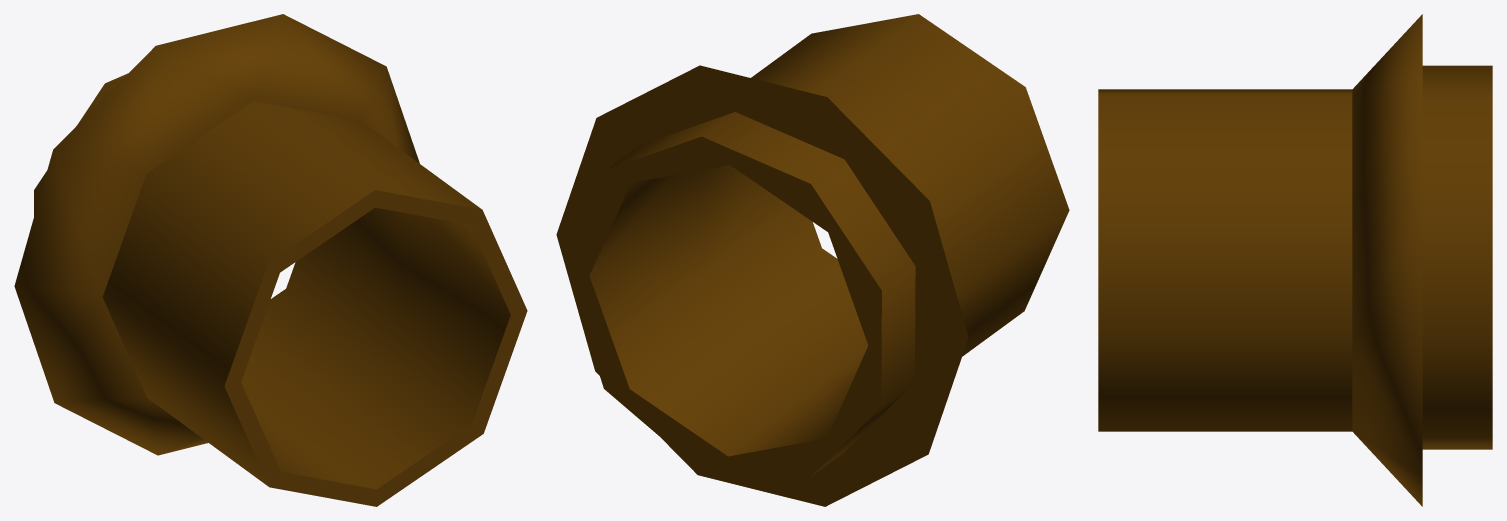
The model's file is Siete Roue dente_Quantieme.obj.
3 renders of one model, left to right at view 1: azimuth 30°, elevation 25°; view 2: azimuth 150°, elevation 25°; view 3: azimuth 270°, elevation 25°, orthographic. The views are drawn at different scales.
Parts seen in each view (by area): view 1: Face_4, Face_7, Face_3, Face_1, Face_6; view 2: Face_7, Face_3, Face_5, Face_2, Face_6; view 3: Face_3, Face_4, Face_6.
Part boxes in pixels (bbox=[...]): Face_4: bbox=[14, 14, 419, 455]; Face_7: bbox=[241, 207, 510, 489]; Face_3: bbox=[102, 101, 481, 486]; Face_1: bbox=[224, 190, 527, 506]; Face_6: bbox=[34, 73, 127, 216]; Face_7: bbox=[589, 165, 868, 456]; Face_3: bbox=[751, 14, 1069, 356]; Face_5: bbox=[556, 65, 968, 506]; Face_2: bbox=[566, 136, 881, 477]; Face_6: bbox=[605, 112, 915, 477]; Face_3: bbox=[1098, 89, 1352, 431]; Face_4: bbox=[1352, 14, 1422, 506]; Face_6: bbox=[1422, 65, 1492, 449].
Bounding box in the file's own units: 0.017 × 0.0162 × 0.0135.
